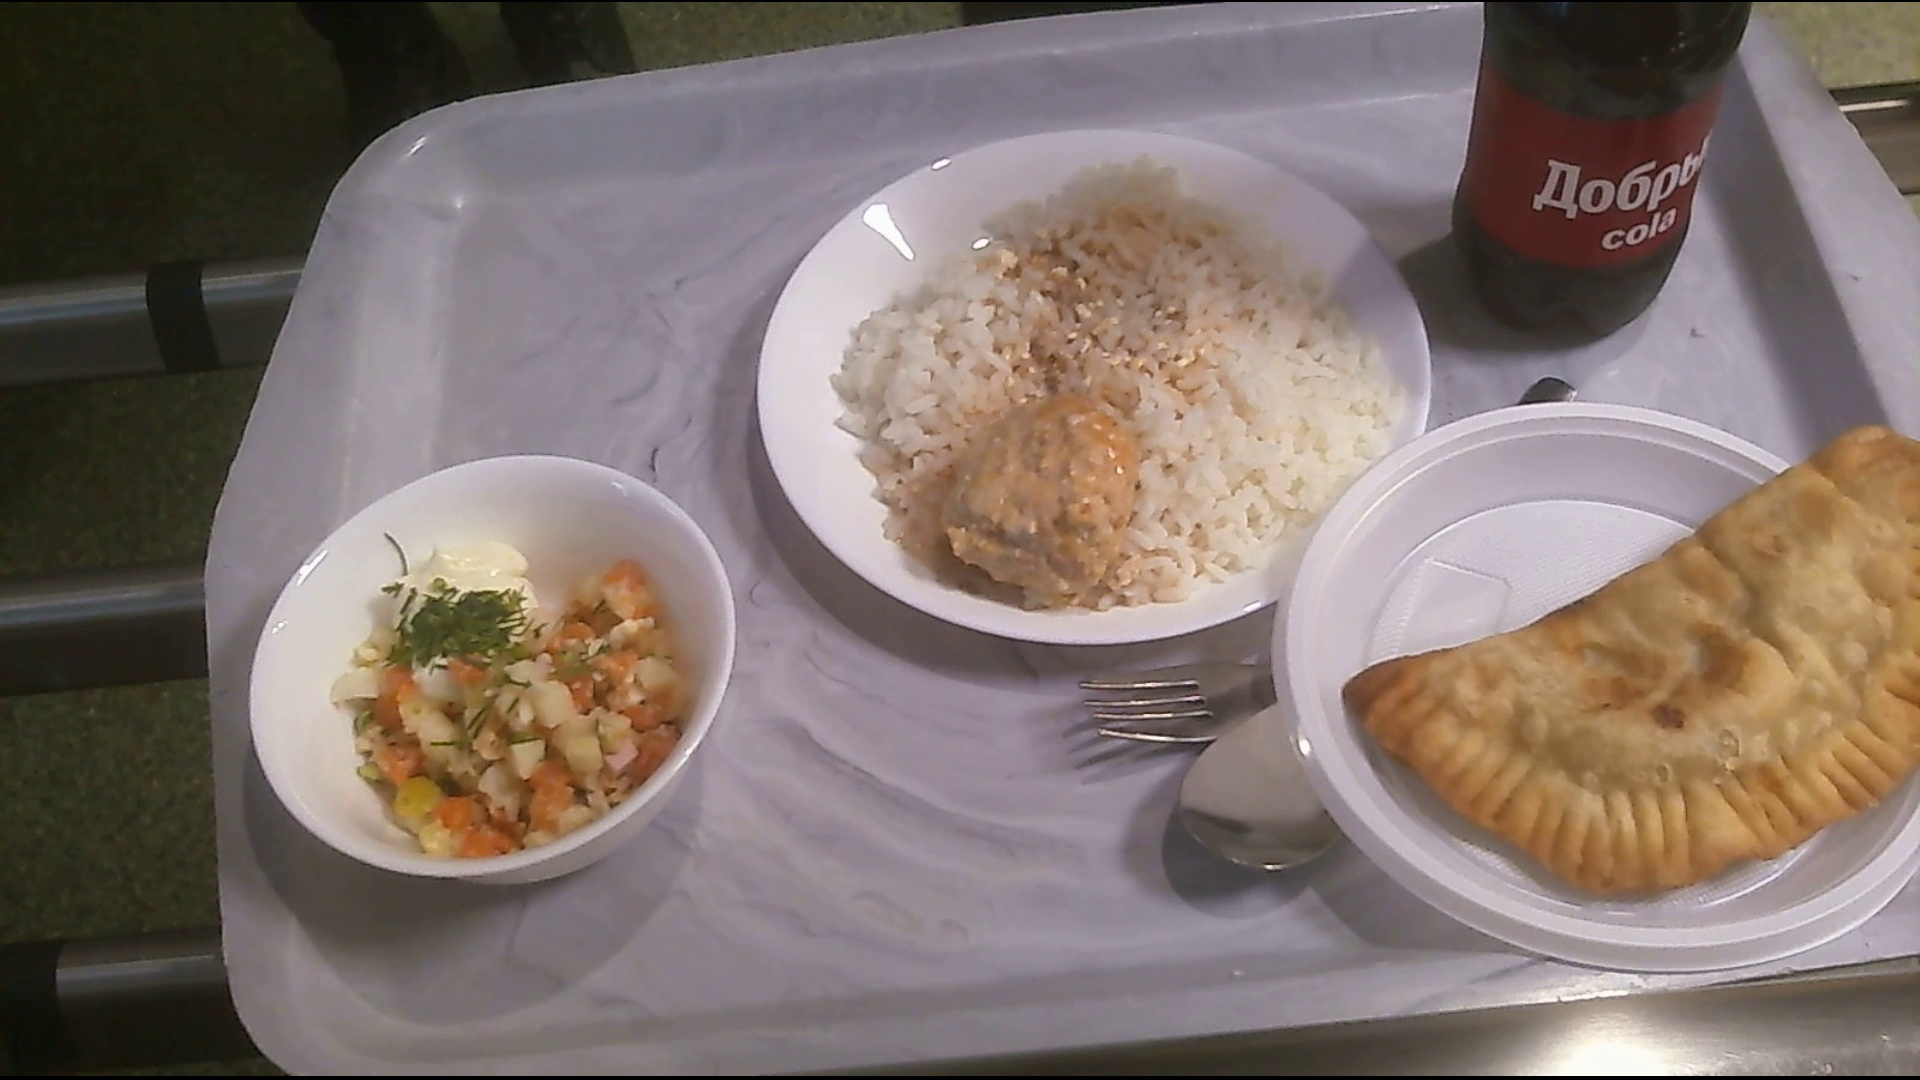bowl: (245, 458, 744, 880)
drink: (1460, 1, 1727, 330)
plate: (753, 138, 1433, 665), (1283, 401, 1920, 952)
